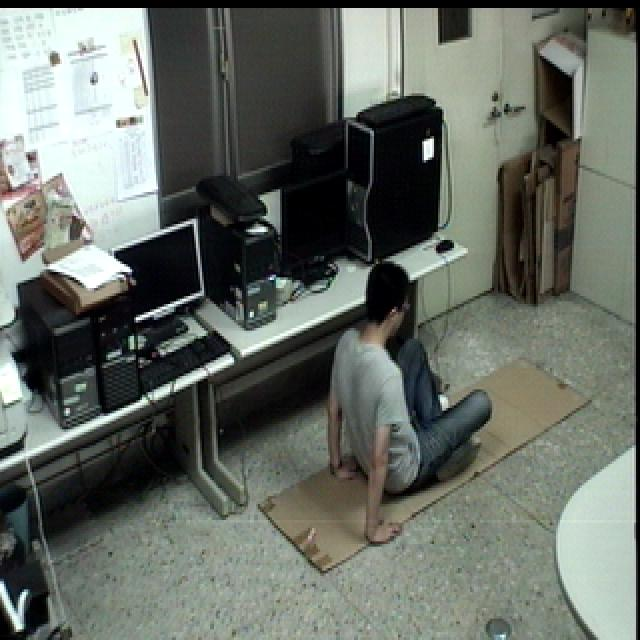sit: (324, 256, 501, 547)
